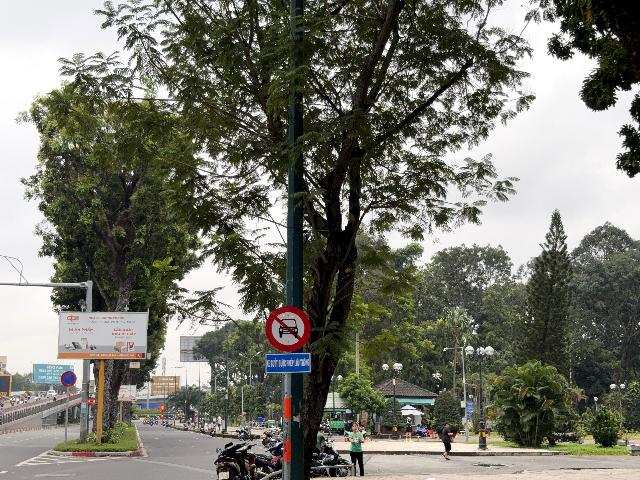cam-o-to: (265, 307, 310, 352)
